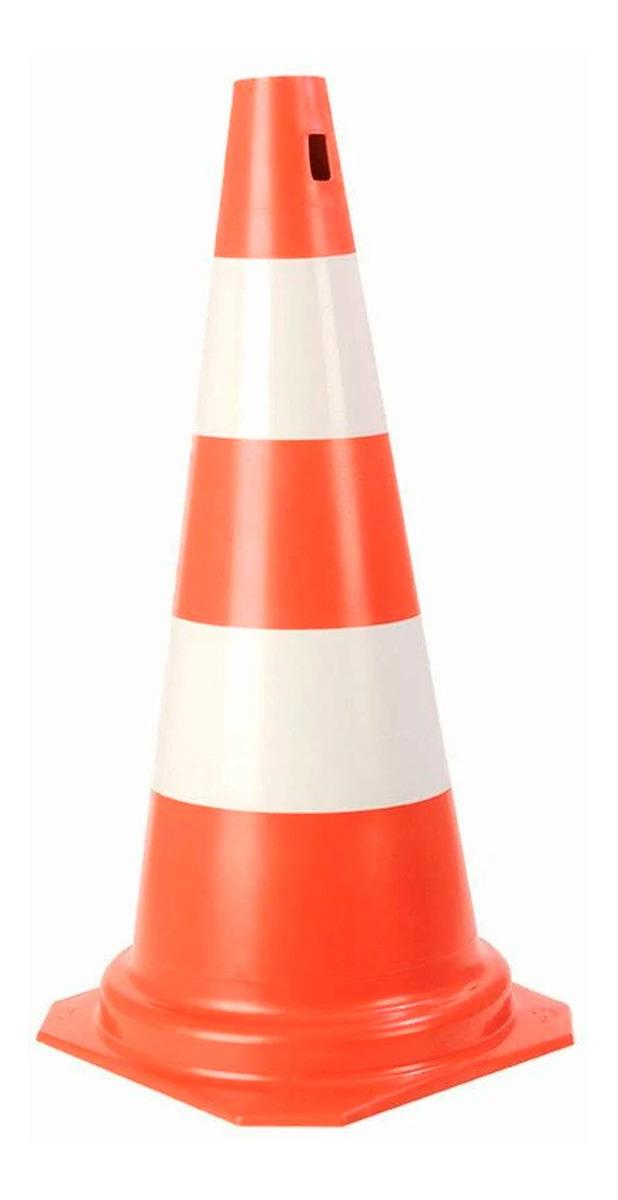traffic_cone: (35, 73, 575, 1128)
